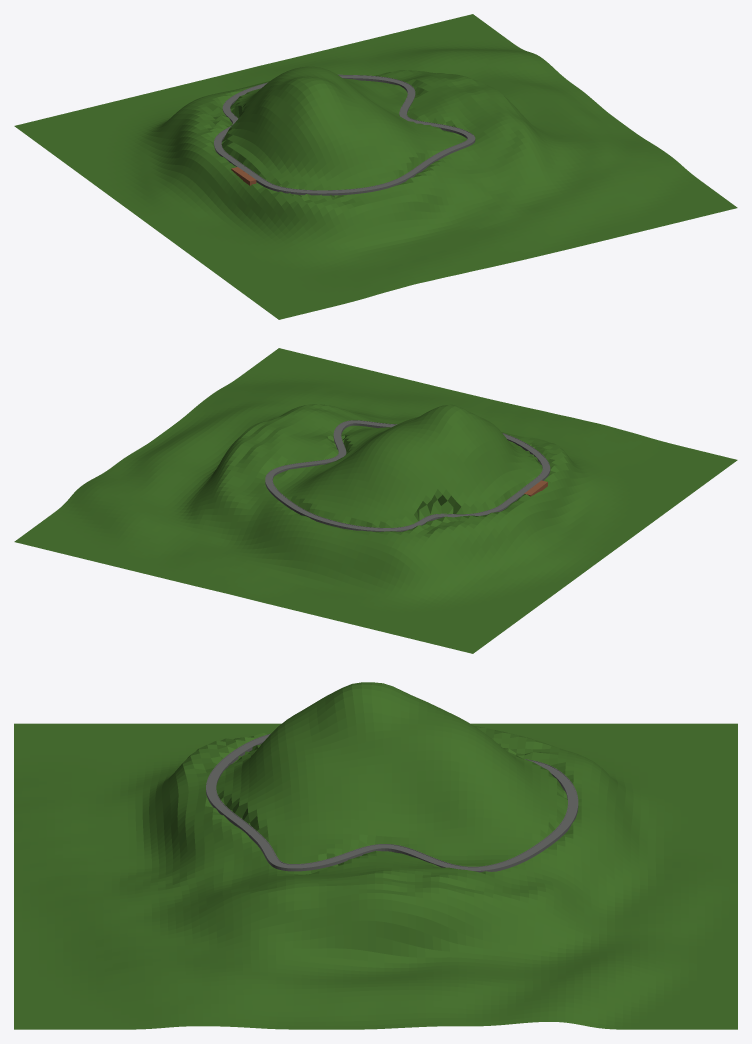
The model's file is Terrain.fbx.
3 renders of one model, top to bottom at view 1: azimuth 30°, elevation 25°; view 2: azimuth 150°, elevation 25°; view 3: azimuth 270°, elevation 25°, orthographic. The views are drawn at different scales.
Parts seen in each view (by area): view 1: Plane.001, Cube; view 2: Plane.001, Cube; view 3: Plane.001, Cube.
Part boxes in pixels (<box>): Plane.001: <box>14,14,737,319</box>; Cube: <box>214,74,475,195</box>; Plane.001: <box>14,348,737,653</box>; Cube: <box>265,420,550,531</box>; Plane.001: <box>14,682,737,1029</box>; Cube: <box>206,733,578,872</box>.
Bounding box in the file's own units: 14013 × 3202 × 13997.
